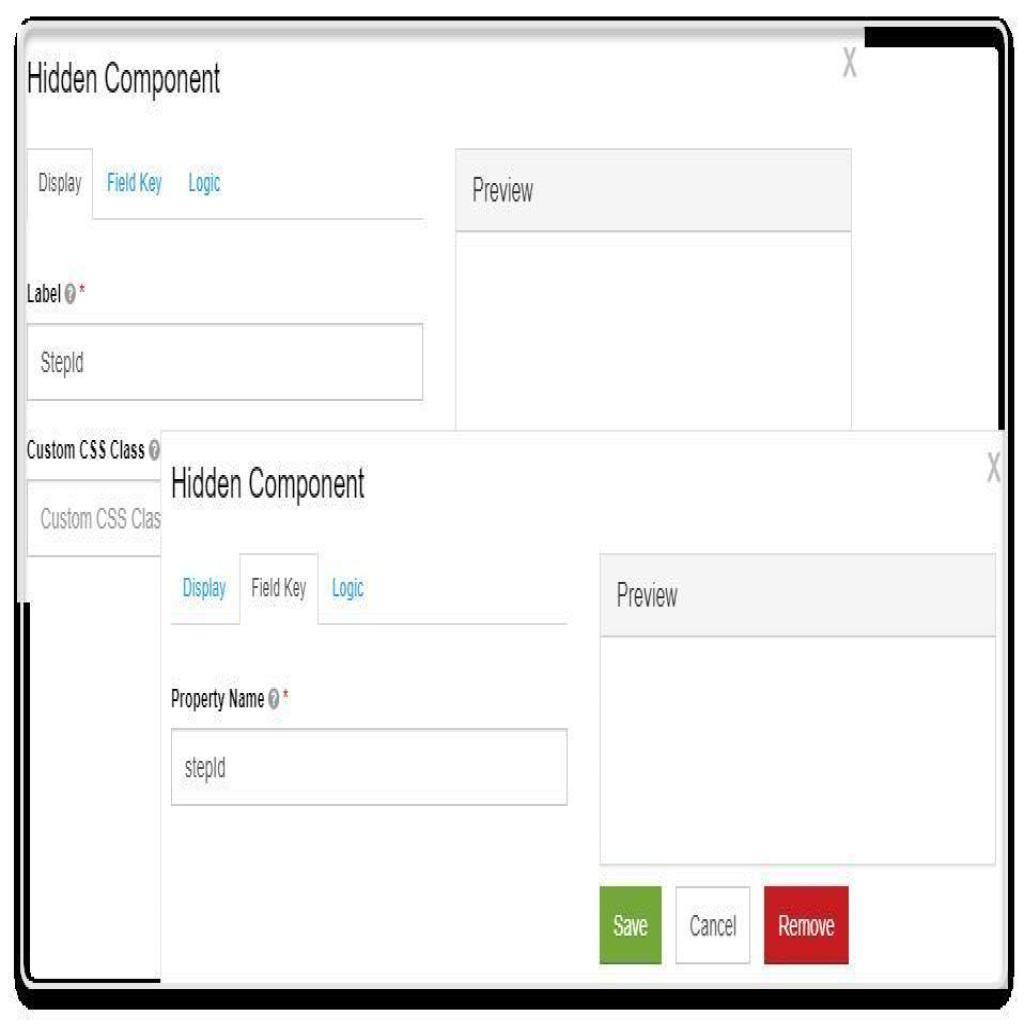button: (764, 884, 850, 964), (674, 886, 752, 964), (600, 884, 662, 964)
icon: (985, 440, 1006, 491), (841, 39, 857, 82)
input: (28, 323, 422, 397), (172, 730, 568, 802)
label: (167, 676, 268, 712), (25, 270, 65, 314)
